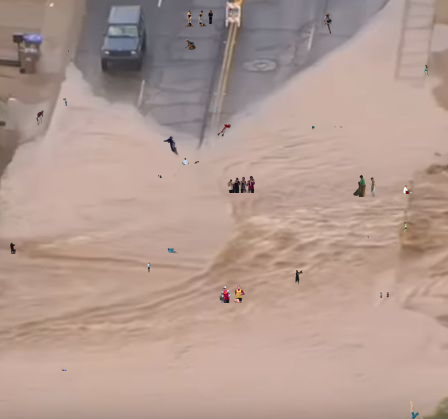Human: (353, 175, 376, 197), (185, 10, 213, 27), (227, 176, 255, 193), (219, 285, 245, 303), (163, 136, 181, 161), (323, 12, 340, 34), (395, 222, 422, 232), (410, 401, 424, 419), (217, 124, 231, 137), (36, 110, 44, 126), (295, 270, 303, 286), (185, 39, 196, 50), (167, 248, 179, 257), (10, 240, 16, 254), (403, 185, 412, 194), (424, 65, 429, 78), (380, 292, 389, 298), (182, 158, 189, 165), (147, 262, 151, 273), (63, 98, 67, 106), (229, 8, 234, 14), (61, 369, 68, 372), (334, 126, 343, 128), (194, 161, 199, 164), (312, 126, 315, 130), (158, 175, 162, 178), (216, 107, 218, 112), (367, 236, 369, 239), (106, 403, 107, 408), (68, 50, 69, 53)
